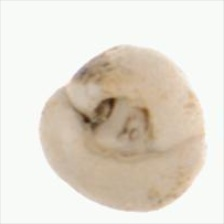L3: (78, 93, 156, 160)
L4: (38, 45, 207, 212)
